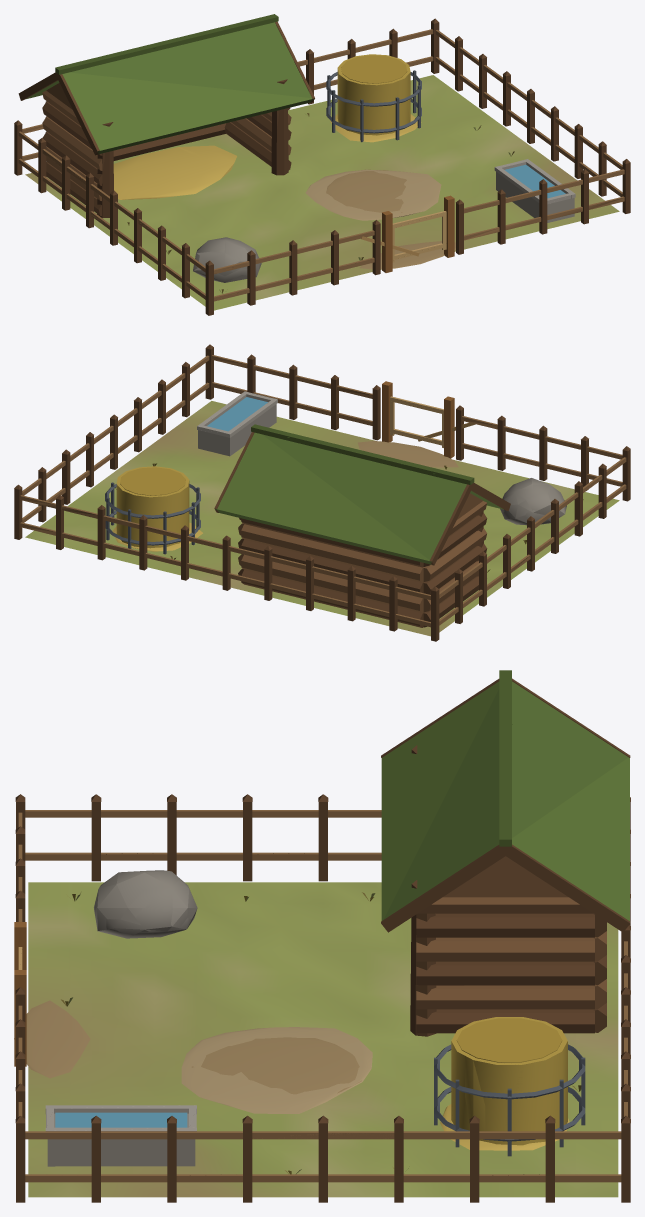
Rendered from bison_range-w5.glb.
3 views of the same model, one above another, from view 1: azimuth 30°, elevation 25°; view 2: azimuth 150°, elevation 25°; view 3: azimuth 270°, elevation 25° (orthographic). The views are drawn at different scales.
Parts seen in each view (by area): view 1: home-bison_range, home-bison_range-far; view 2: home-bison_range, home-bison_range-far; view 3: home-bison_range, home-bison_range-far.
Boxes of the visible parts, x1=… form: home-bison_range: x1=14, y1=14, x2=630, y2=315; home-bison_range-far: x1=14, y1=17, x2=625, y2=313; home-bison_range: x1=14, y1=344, x2=630, y2=641; home-bison_range-far: x1=20, y1=348, x2=627, y2=639; home-bison_range: x1=14, y1=670, x2=630, y2=1202; home-bison_range-far: x1=14, y1=670, x2=630, y2=1202.
Bounding box in the file's own units: 9.93 × 3.09 × 7.95.
